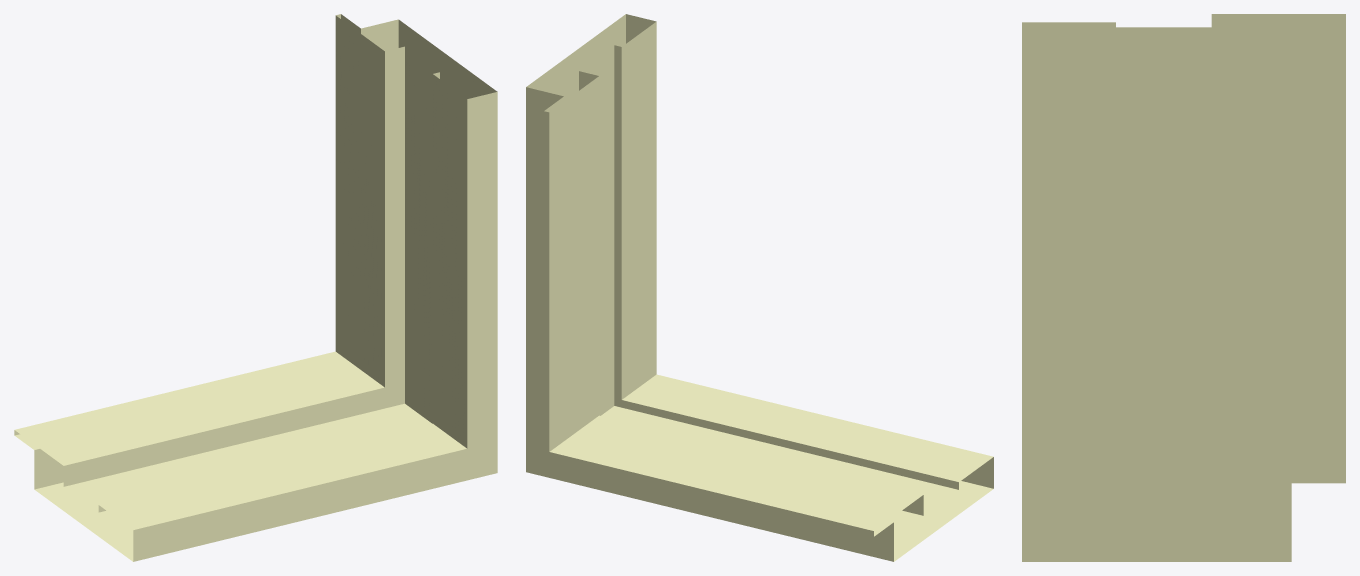
Rendered from original-14.obj.
3 views of the same model, side by side, from view 1: azimuth 30°, elevation 25°; view 2: azimuth 150°, elevation 25°; view 3: azimuth 270°, elevation 25° (orthographic). The views are drawn at different scales.
Visible parts, largest first — view 1: BF2_BR1/BF2_BR/mesh105/mesh105-geometry#mesh105-geometry; view 2: BF2_BR1/BF2_BR/mesh105/mesh105-geometry#mesh105-geometry; view 3: BF2_BR1/BF2_BR/mesh105/mesh105-geometry#mesh105-geometry.
Boxes of the visible parts, x1=… form: BF2_BR1/BF2_BR/mesh105/mesh105-geometry#mesh105-geometry: x1=14, y1=14, x2=497, y2=561; BF2_BR1/BF2_BR/mesh105/mesh105-geometry#mesh105-geometry: x1=526, y1=14, x2=993, y2=561; BF2_BR1/BF2_BR/mesh105/mesh105-geometry#mesh105-geometry: x1=1022, y1=14, x2=1345, y2=561.
Size of the model in its own units: 0.0978 by 0.0978 by 0.0552.
